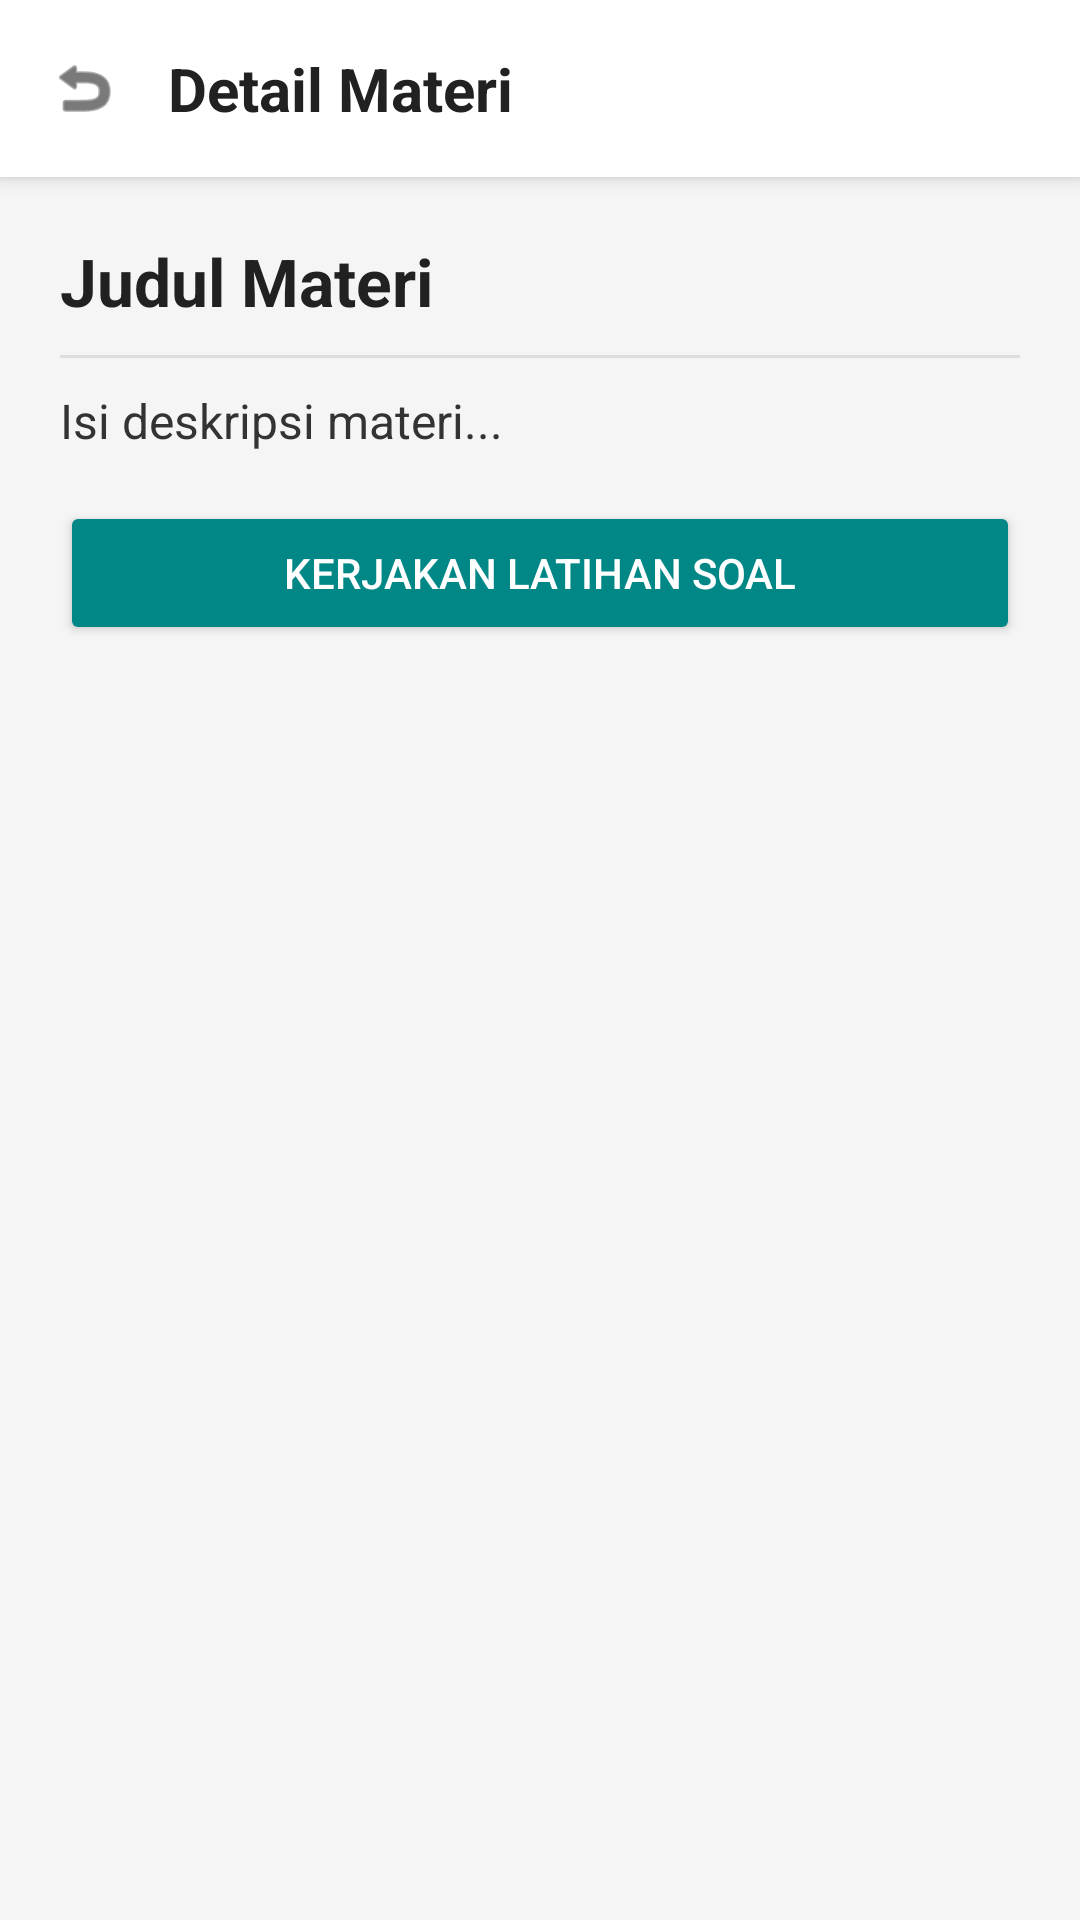

Icons on this 1080 × 1920 Android screen, each with the point to tap as (x=x, y=y):
revert: (x=85, y=88)
